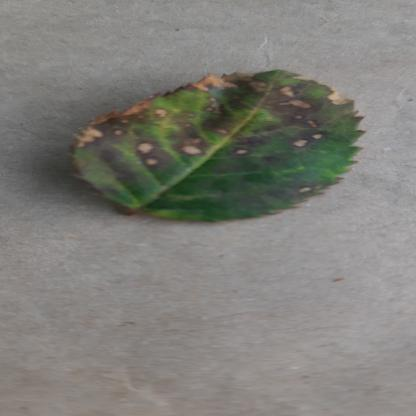powdery-mildew: (60, 69, 370, 221)
